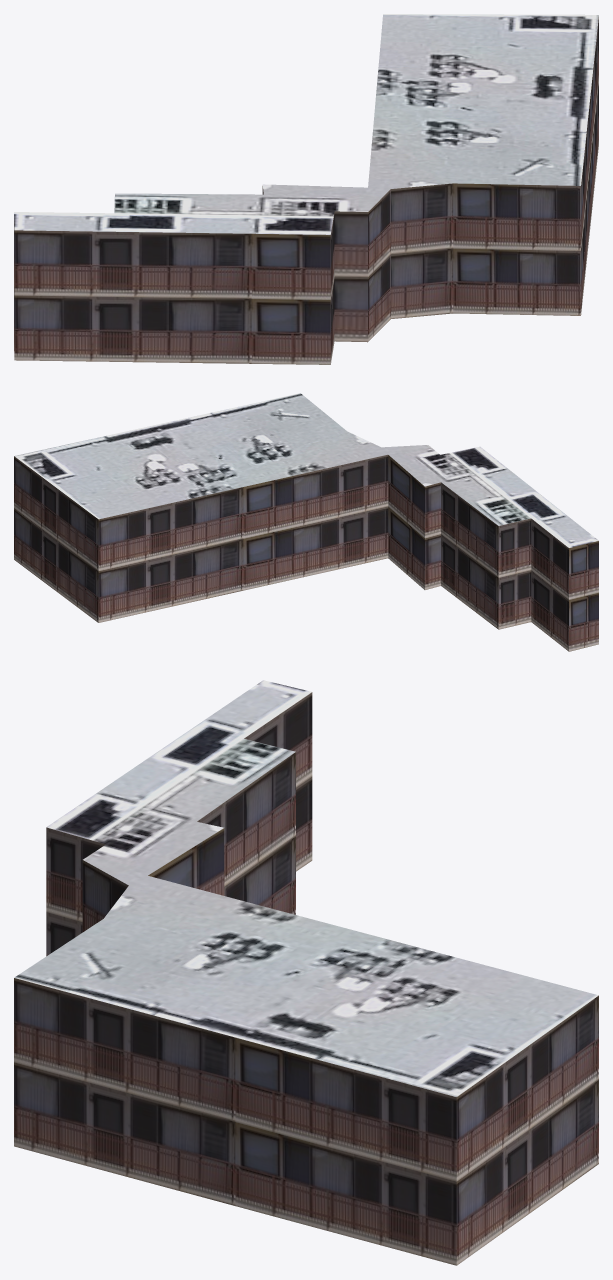
Rendered from ResTex__92.fbx.
3 views of the same model, one above another, from view 1: azimuth 30°, elevation 25°; view 2: azimuth 150°, elevation 25°; view 3: azimuth 270°, elevation 25° (orthographic). The views are drawn at different scales.
Parts seen in each view (by area): view 1: CityEngineMaterial_6_m, CityEngineMaterial_8_m; view 2: CityEngineMaterial_6_m, CityEngineMaterial_8_m; view 3: CityEngineMaterial_6_m, CityEngineMaterial_8_m.
Part boxes in pixels (box(x1,y1,x2,y2)): CityEngineMaterial_6_m: box(14, 16, 598, 364); CityEngineMaterial_8_m: box(14, 14, 598, 234); CityEngineMaterial_6_m: box(14, 454, 598, 651); CityEngineMaterial_8_m: box(14, 393, 598, 547); CityEngineMaterial_6_m: box(14, 692, 598, 1265); CityEngineMaterial_8_m: box(14, 680, 598, 1096).
Size of the model in its own units: 31.82 by 6 by 18.86.
Materials: 2 (2 with a texture image).
